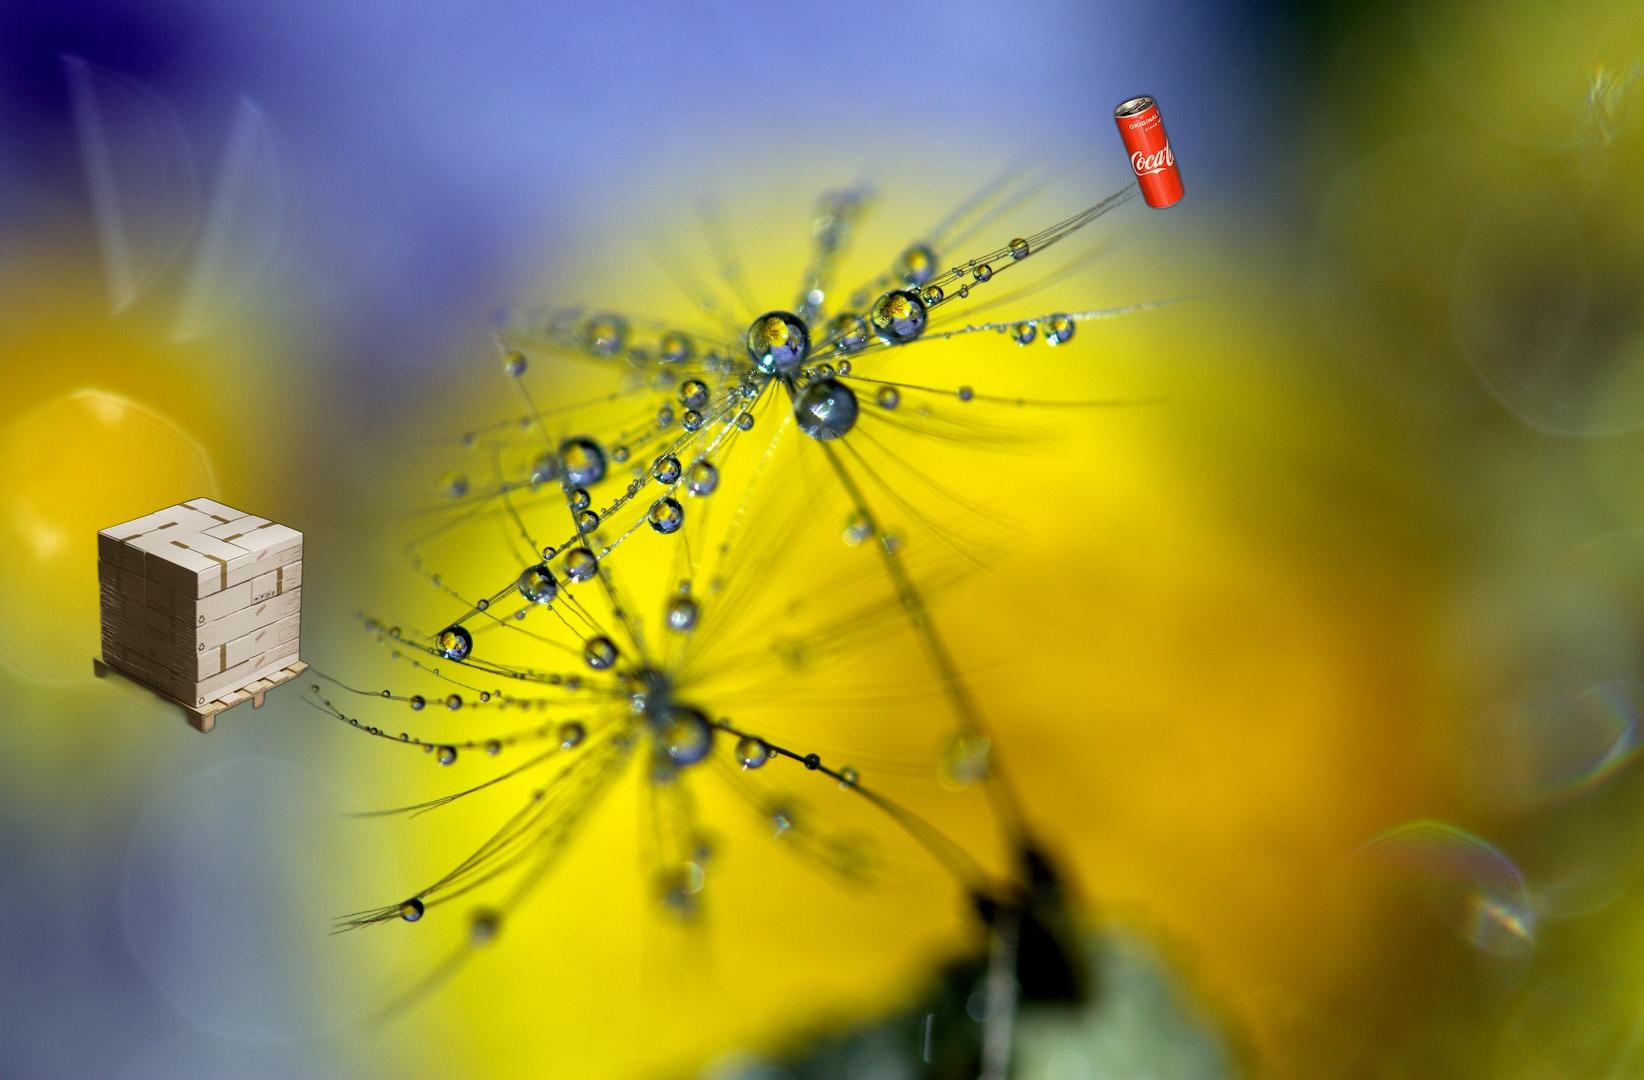metal-cans: (1111, 89, 1188, 215)
trashbox-cardboard: (89, 495, 313, 736)
